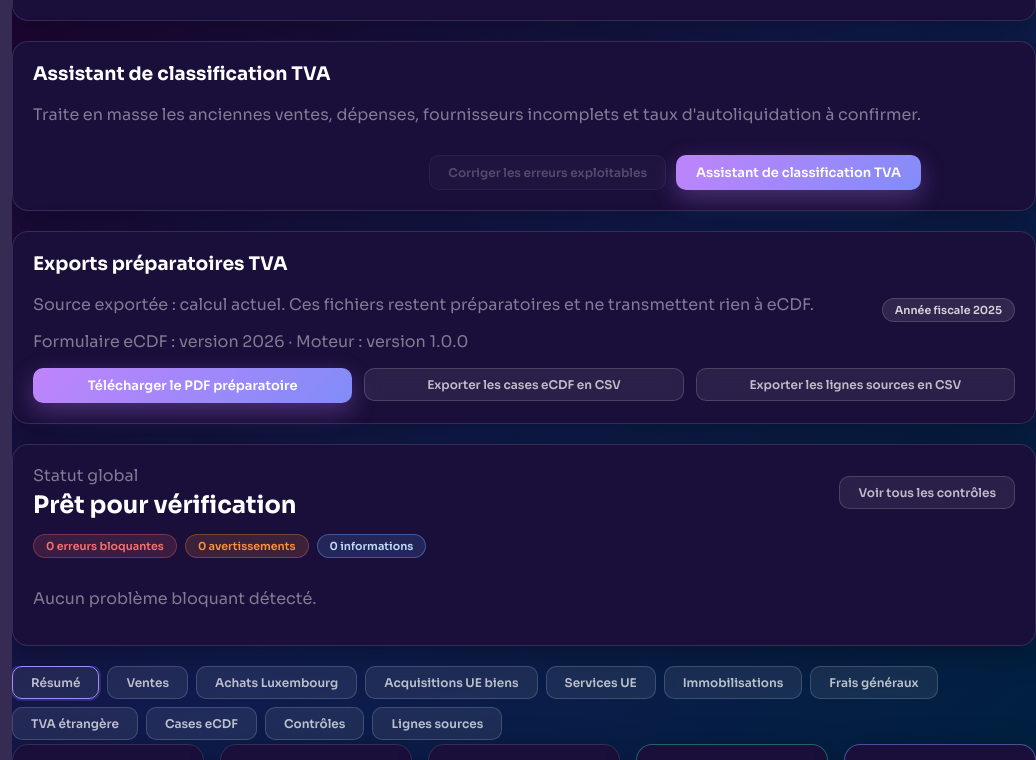
VatDeclaration › affiche une erreur utilisateur si un export echoue
This screenshot has width=1036, height=760.
(page scrolled)
Click the button "Exporter les lignes sources en CSV" at coordinates (855, 384), box [696,368,1015,401]
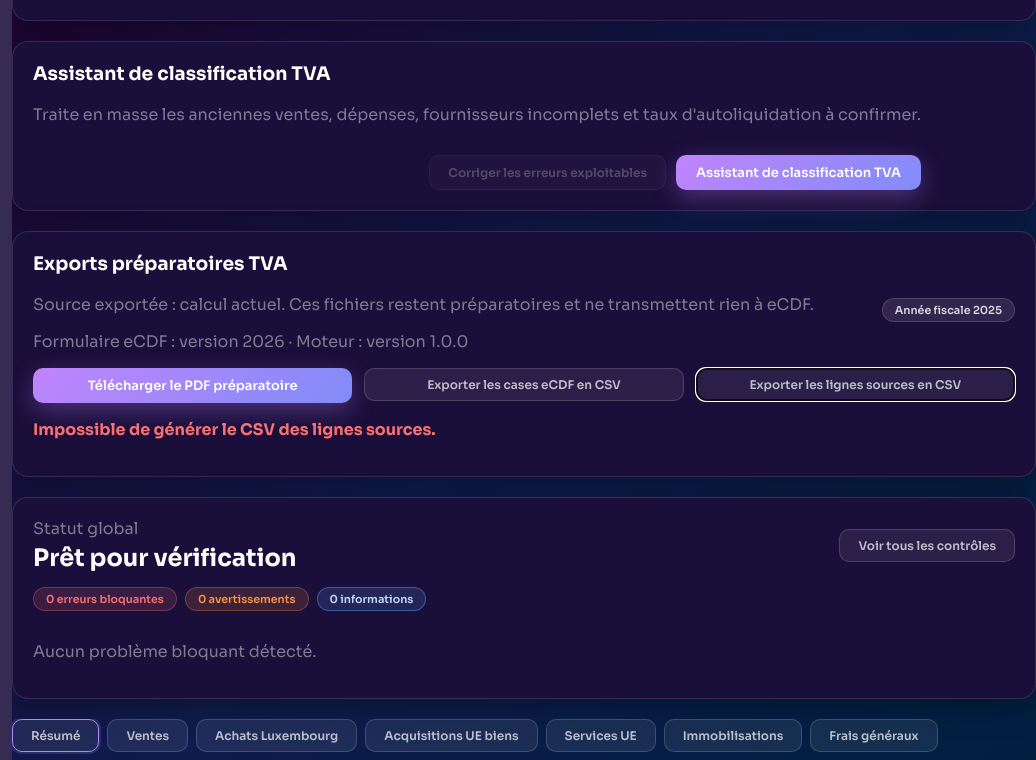
Result: the text "Impossible de générer le CSV des lignes sources." is shown at [33,419,436,440]
